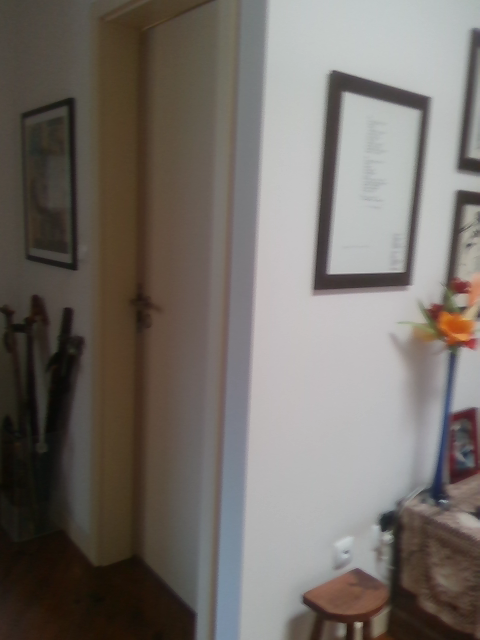closed: (92, 5, 241, 639)
